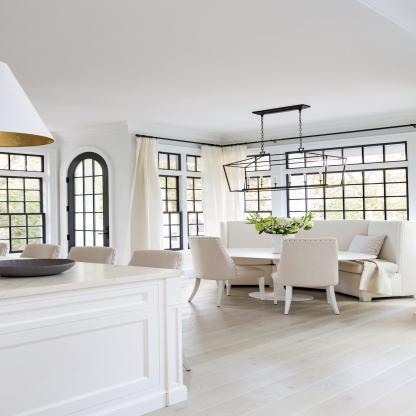chair: (126, 239, 188, 397), (188, 224, 266, 311), (283, 229, 344, 325), (71, 244, 118, 264), (21, 240, 59, 263), (0, 239, 9, 255)
door: (66, 153, 114, 249)
light: (219, 98, 346, 192), (0, 50, 56, 150)
sofa: (212, 212, 416, 304)
table: (0, 265, 175, 416), (217, 235, 371, 309)
